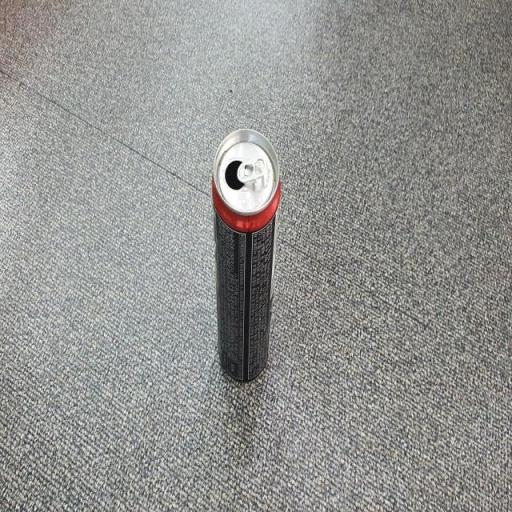metal: (196, 108, 312, 406)
